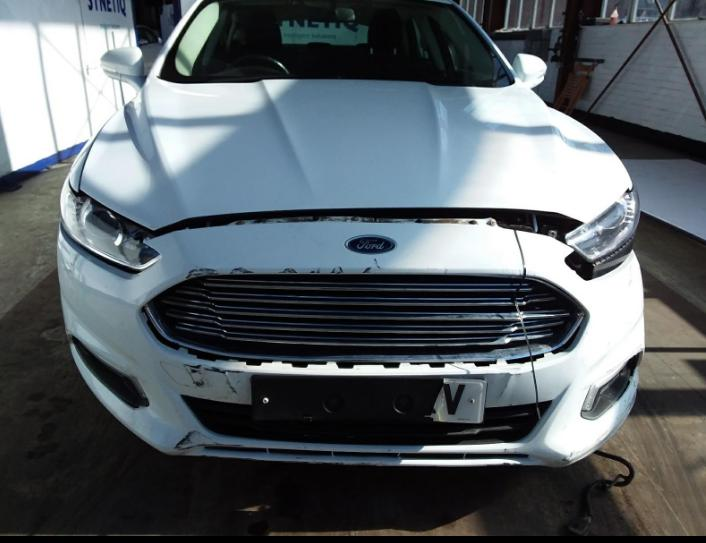Front-bumper: (57, 216, 645, 468)
Grille: (144, 274, 584, 363)
Headlight: (59, 177, 160, 269), (564, 187, 640, 279)
Hood: (68, 76, 632, 231)
License-plate: (251, 376, 487, 423)
Mirror: (101, 47, 147, 91), (513, 53, 548, 88)
Windshield: (159, 0, 514, 88)
